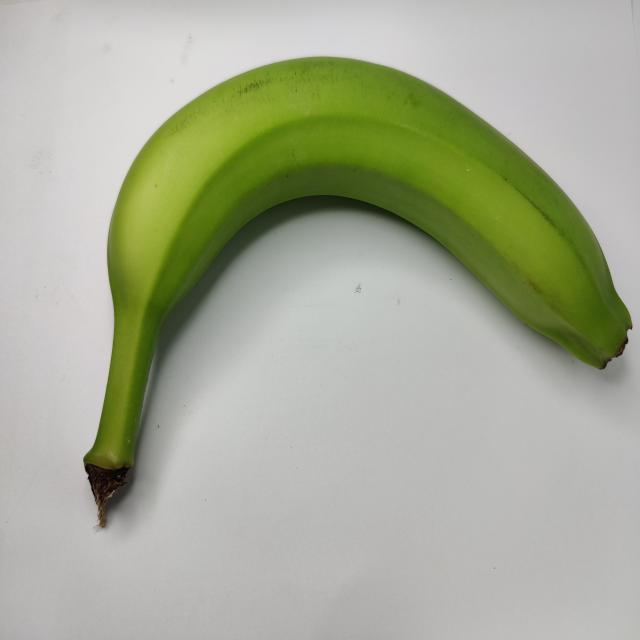raw: (76, 30, 637, 538)
